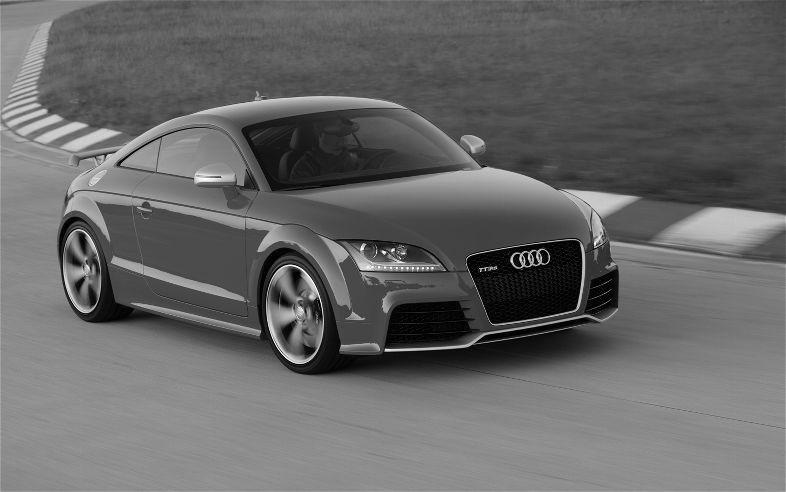car: (54, 95, 626, 377)
